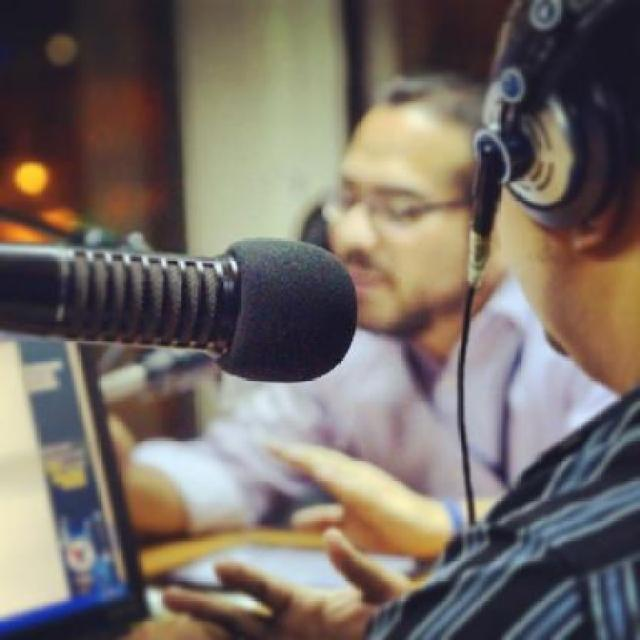earphone: (468, 0, 636, 256)
